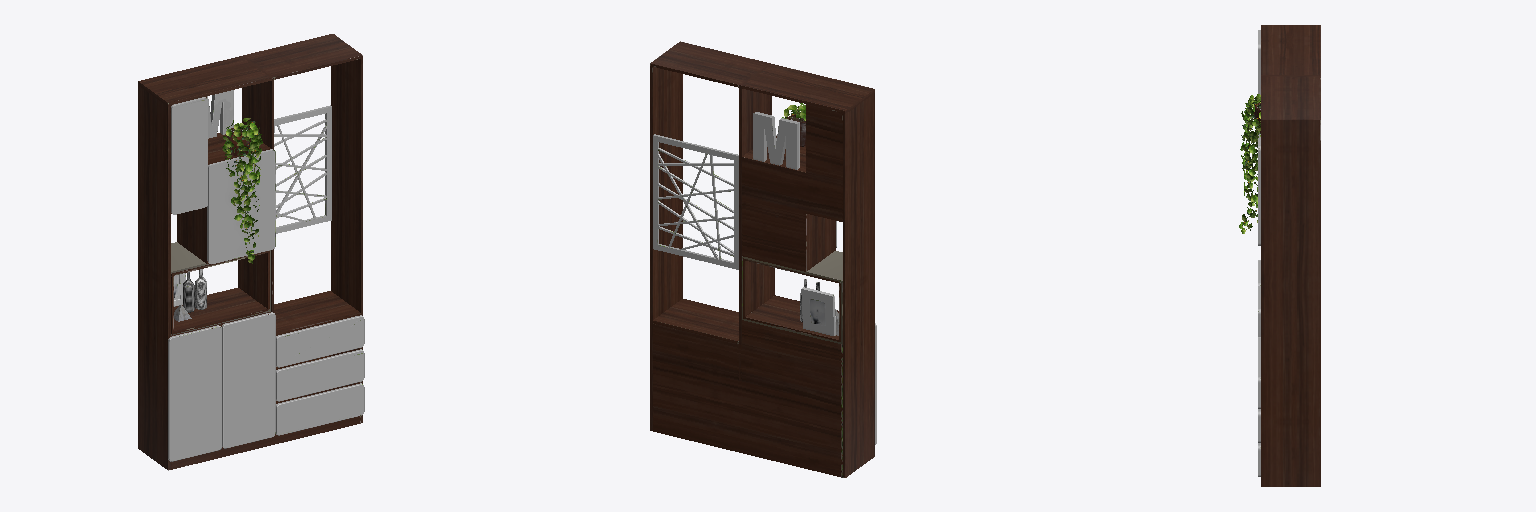
3 renders of one model, left to right at view 1: azimuth 30°, elevation 25°; view 2: azimuth 150°, elevation 25°; view 3: azimuth 270°, elevation 25°, orthographic.
Parts seen in each view (by area): view 1: solid_005, solid_008, solid_009, glass_002, solid_006, solid_010; view 2: solid_005, solid_008, solid_009, solid_006, solid_007; view 3: solid_005, solid_008, glass_002.
Boxes of the visible parts, x1=… form: solid_005: x1=138, y1=34, x2=362, y2=470; solid_008: x1=168, y1=97, x2=364, y2=461; solid_009: x1=207, y1=90, x2=233, y2=138; glass_002: x1=223, y1=123, x2=261, y2=247; solid_006: x1=171, y1=242, x2=270, y2=335; solid_010: x1=222, y1=120, x2=262, y2=259; solid_005: x1=650, y1=41, x2=874, y2=477; solid_008: x1=653, y1=134, x2=876, y2=444; solid_009: x1=753, y1=112, x2=799, y2=169; solid_006: x1=742, y1=251, x2=842, y2=344; solid_007: x1=801, y1=287, x2=835, y2=335; solid_005: x1=1261, y1=25, x2=1320, y2=486; solid_008: x1=1258, y1=30, x2=1260, y2=476; glass_002: x1=1241, y1=97, x2=1260, y2=221.
Bounding box in the file's own units: 0.8696 × 1.57 × 0.3144.
1 materials, 1 textured.